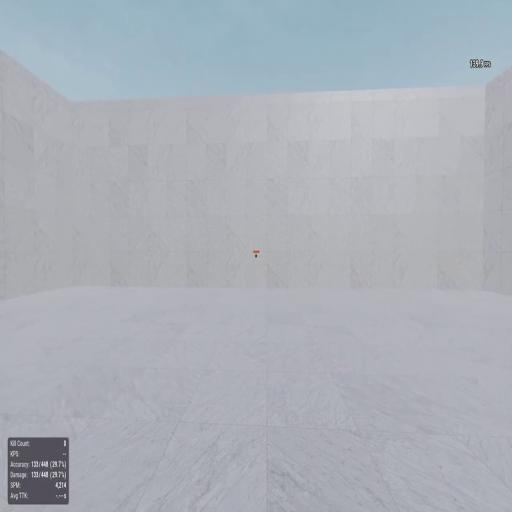Crosshair: (255, 254, 257, 258)
Target: (255, 254, 257, 257)
